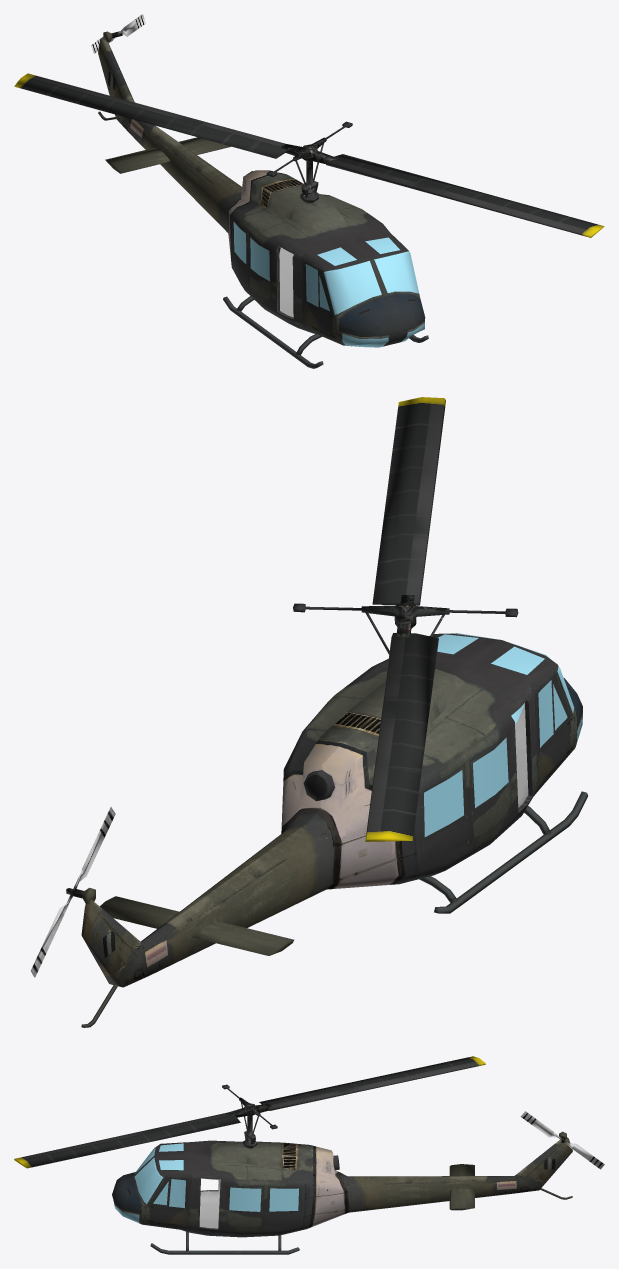
File: myHelico.glb
The picture shows the model from 3 angles, top to bottom: view 1: azimuth 30°, elevation 25°; view 2: azimuth 150°, elevation 25°; view 3: azimuth 270°, elevation 25°; orthographic projection. The views are drawn at different scales.
Parts seen in each view (by area): view 1: Bell_Huey, Top_Rotor, Inside1; view 2: Bell_Huey, Top_Rotor, Back_Rotor, Inside1; view 3: Bell_Huey, Top_Rotor, Inside1, Back_Rotor.
Part boxes in pixels (x1,y1,x2,y2): Bell_Huey: (98, 31, 428, 368); Top_Rotor: (14, 73, 604, 237); Inside1: (277, 246, 293, 318); Bell_Huey: (81, 633, 587, 1027); Top_Rotor: (293, 397, 518, 841); Back_Rotor: (31, 807, 115, 977); Inside1: (511, 703, 528, 811); Bell_Huey: (112, 1131, 572, 1254); Top_Rotor: (14, 1056, 485, 1168); Inside1: (199, 1178, 220, 1229); Back_Rotor: (520, 1111, 604, 1169).
Size of the model in its own units: 7.48 by 4.01 by 16.66.
Materials: 3 (1 with a texture image).
